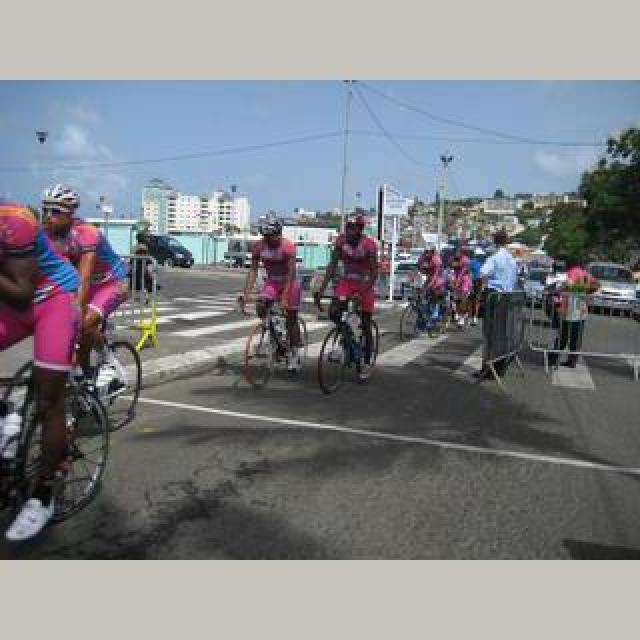Bus-Bike: (586, 258, 640, 314), (140, 234, 194, 268)
MC-Bike: (36, 186, 130, 412), (318, 212, 382, 376), (240, 218, 300, 366), (478, 228, 522, 378)
Person: (0, 370, 114, 536), (0, 316, 146, 430), (244, 294, 308, 390), (318, 294, 378, 394)
